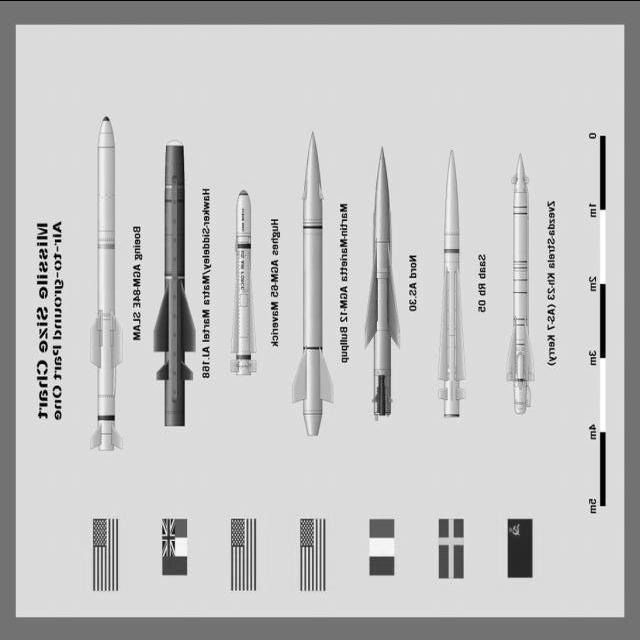missile: (345, 144, 409, 448), (80, 107, 128, 454), (429, 141, 466, 433)
